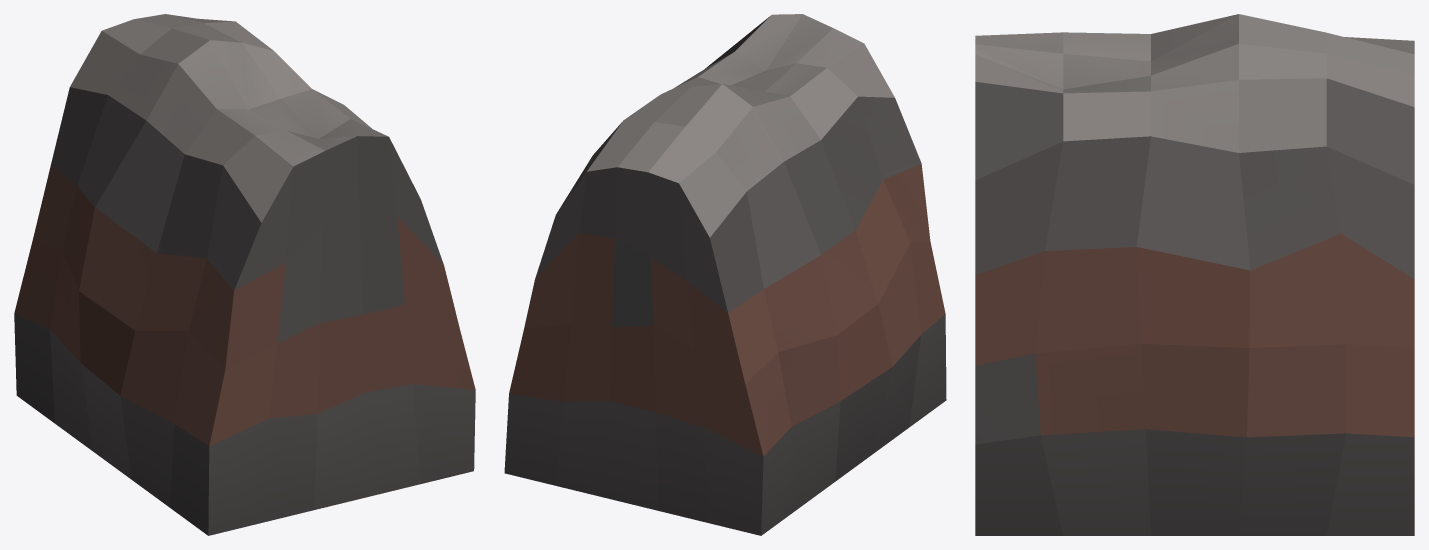
File: roca_recta.glb
3 views of the same model, side by side, from view 1: azimuth 30°, elevation 25°; view 2: azimuth 150°, elevation 25°; view 3: azimuth 270°, elevation 25° (orthographic). The views are drawn at different scales.
Visible parts, largest first — view 1: propforge-cuartos-roca_recta; view 2: propforge-cuartos-roca_recta; view 3: propforge-cuartos-roca_recta.
Part boxes in pixels (bbox=[...]): propforge-cuartos-roca_recta: bbox=[14, 14, 475, 535]; propforge-cuartos-roca_recta: bbox=[504, 14, 946, 535]; propforge-cuartos-roca_recta: bbox=[975, 14, 1414, 535].
Bounding box in the file's own units: 0.8749 × 1.1 × 1.
